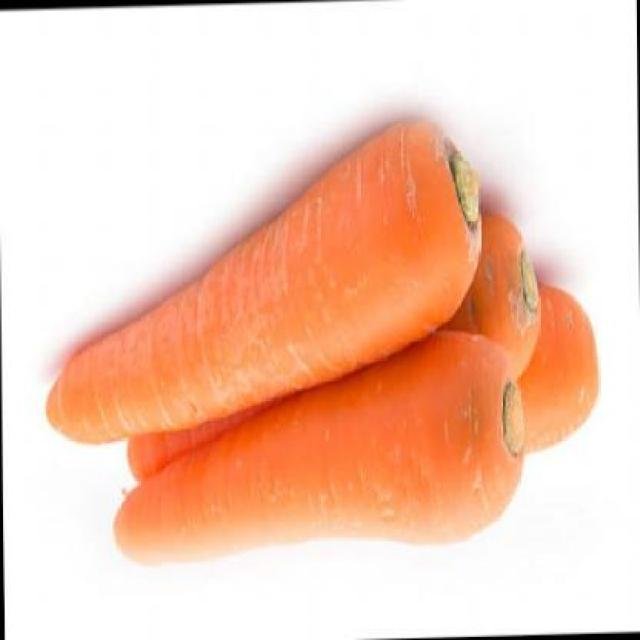carrot: (42, 117, 483, 446), (112, 323, 526, 565), (440, 207, 538, 381), (514, 283, 598, 455)
